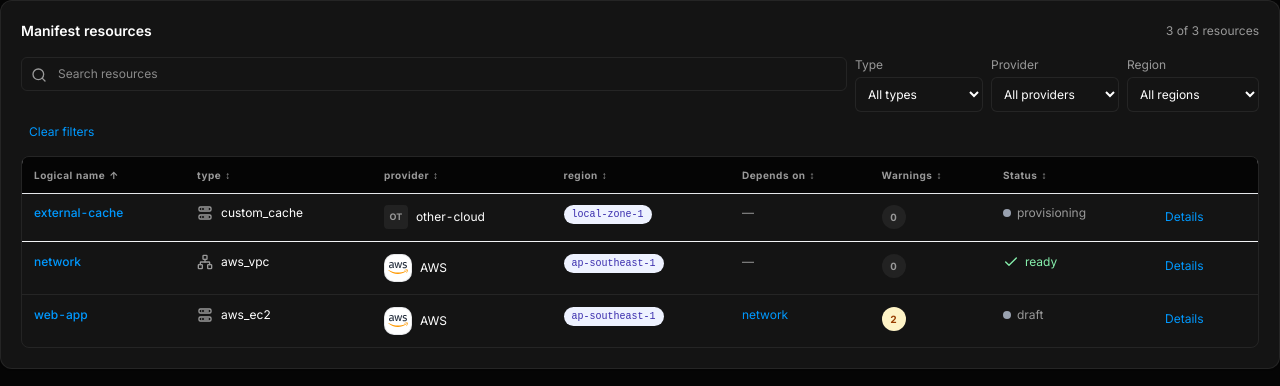
Test: ResourceTableComponent › clears search and all filters with one action
Type "web" into the field labelled "Search resources". click: (434, 74)
box: x1=21 y1=57 x2=847 y2=91
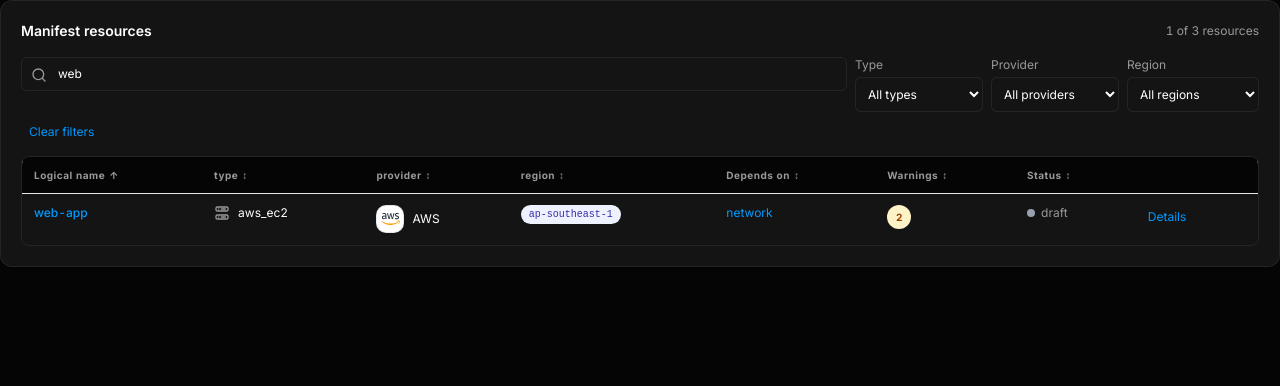
Select "aws_ec2" in the dropdown named "Filter by type". click: (919, 94)
box: x1=855 y1=77 x2=983 y2=112
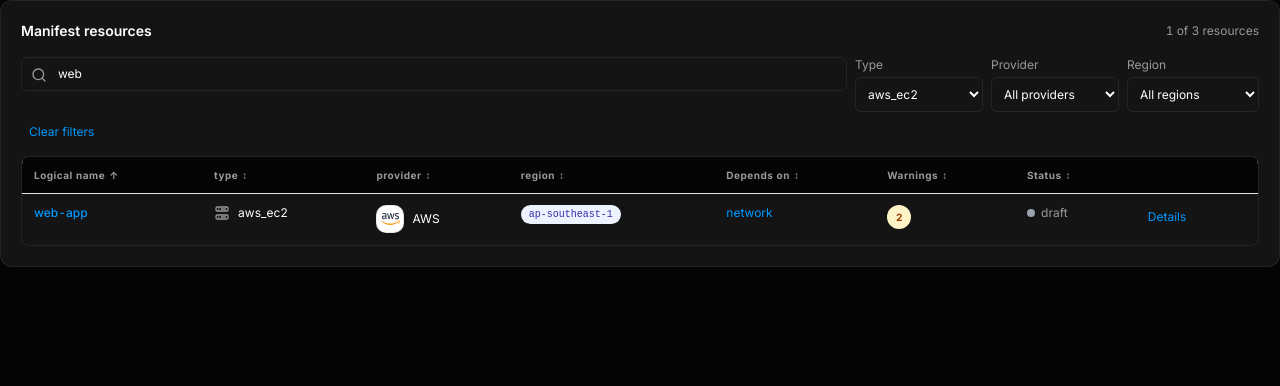
Select "AWS" in the dropdown named "Filter by provider". click: (1055, 94)
box: x1=991 y1=77 x2=1119 y2=112
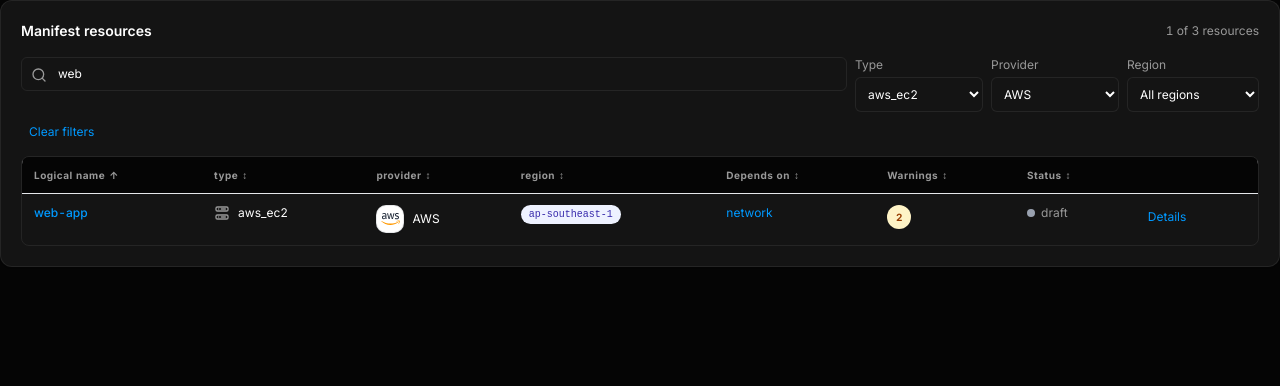
Select "ap-southeast-1" in the dropdown named "Filter by region". click: (1193, 94)
box: x1=1127 y1=77 x2=1259 y2=112
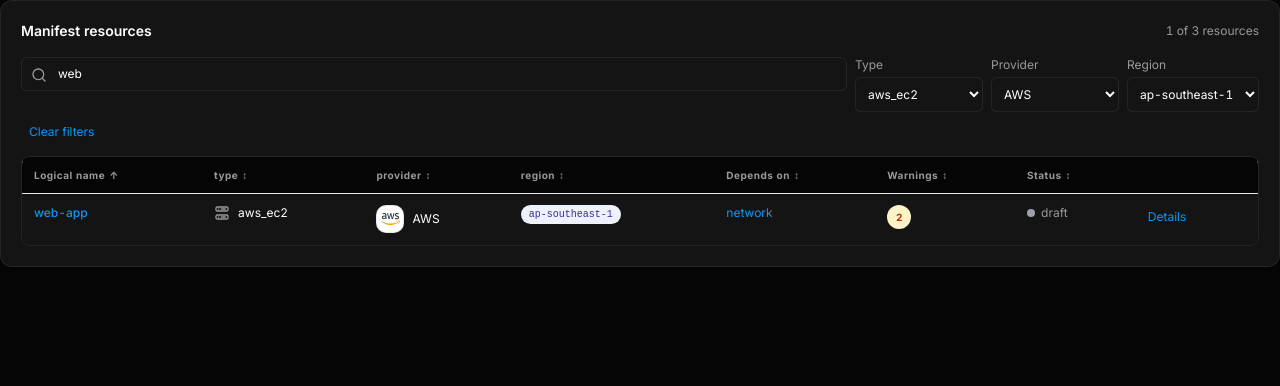
Click the button "Clear filters". click: (62, 132)
box: x1=21 y1=120 x2=102 y2=144
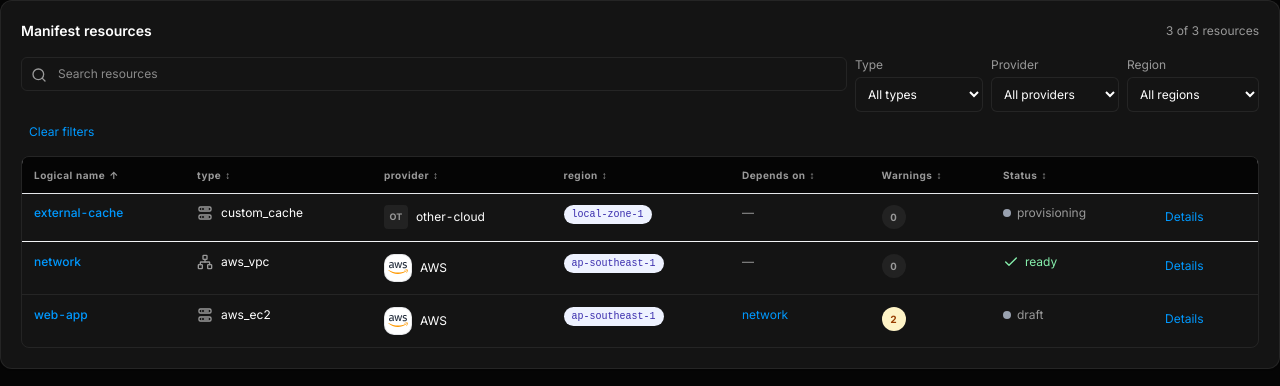
Now the field labelled "Search resources" is empty, box x1=21 y1=57 x2=847 y2=91
